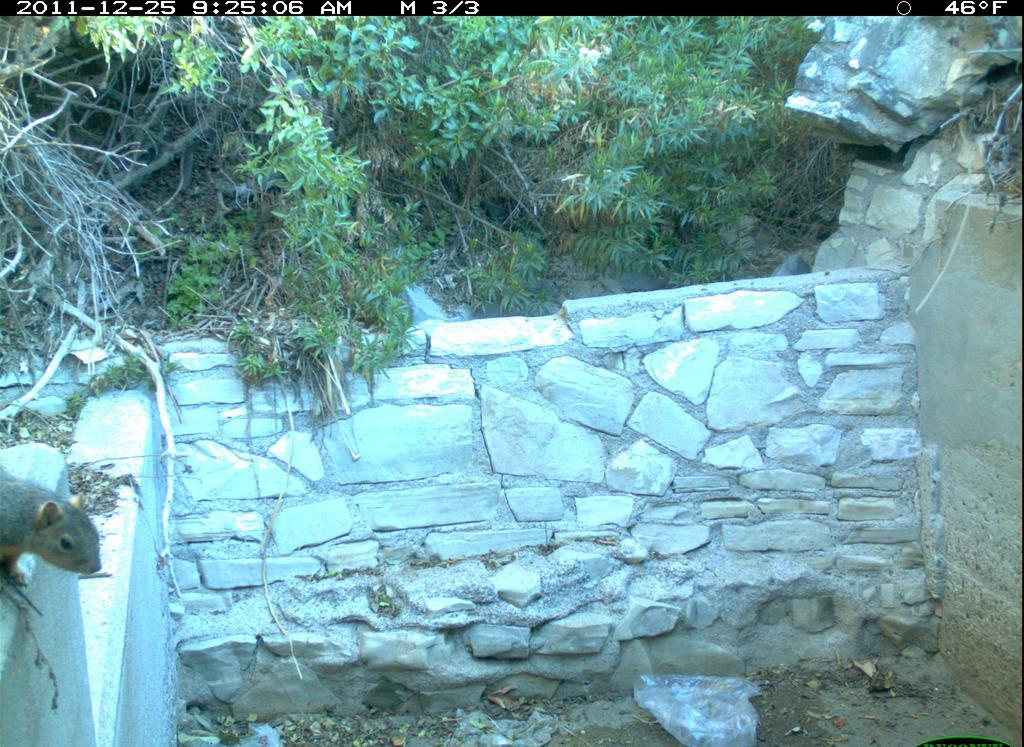squirrel: (1, 459, 113, 604)
